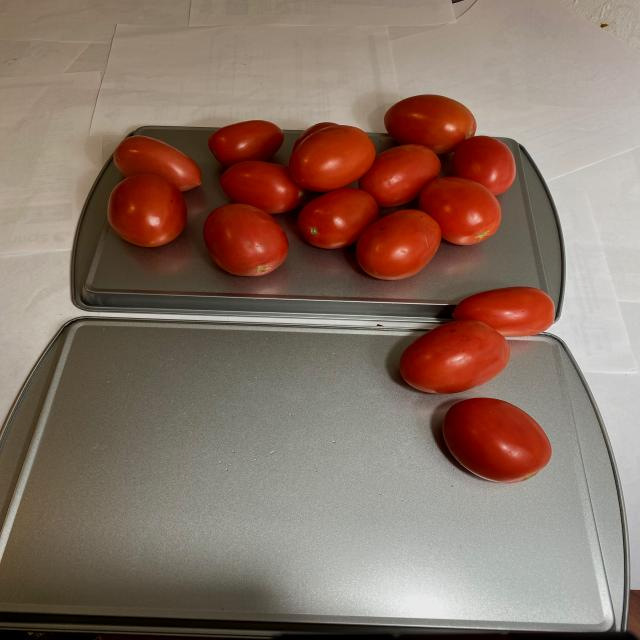tomato: (99, 94, 522, 284), (398, 287, 558, 493)
